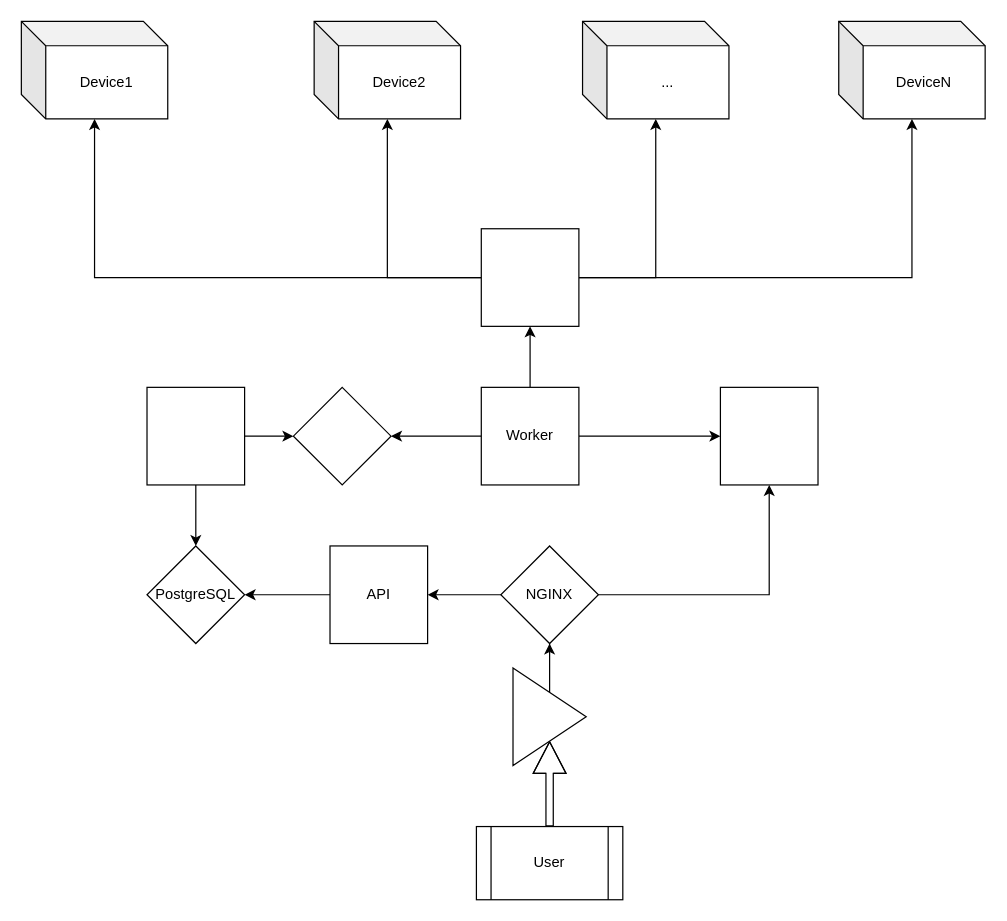
Some shapes in this 1007 by 921 pixel diagram are drawn without their labels. Here are the shapes that lost their labels. From the top down, the centre of each, then its label:
the point at 529,277: Driver
the point at 195,435: Collector
the point at 341,435: Redis
the point at 768,435: Manager
the point at 549,716: UI
